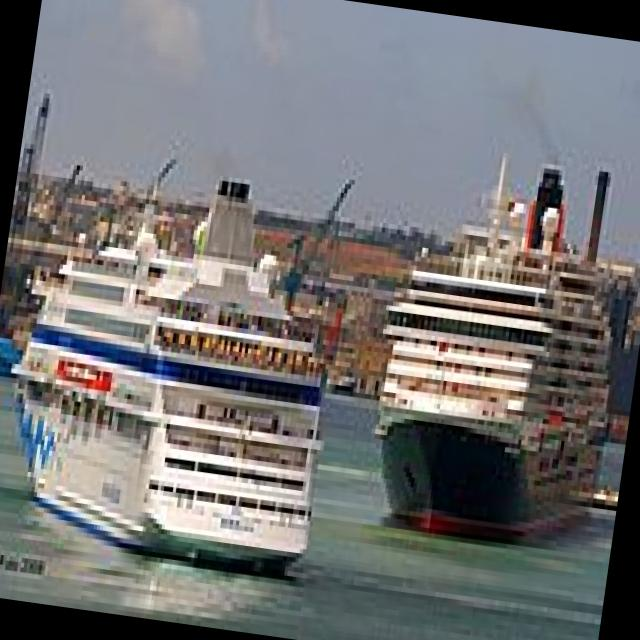boat: (0, 221, 351, 620), (362, 213, 629, 550)
